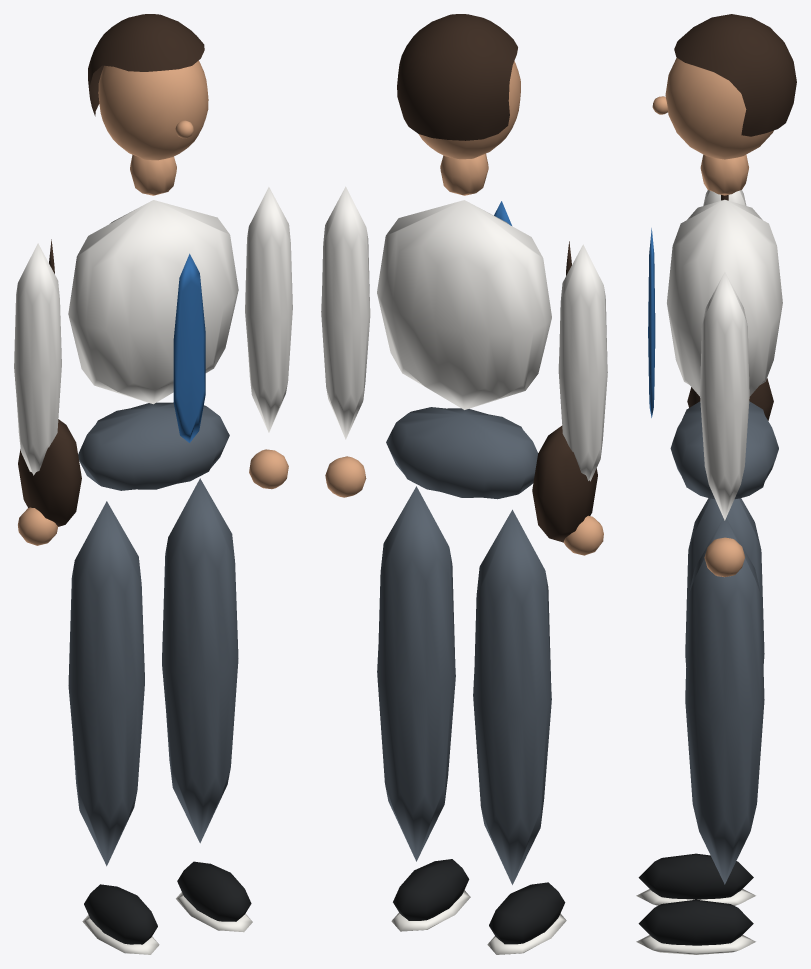
File: getkong-hhped10.glb
The picture shows the model from 3 angles, left to right: view 1: azimuth 30°, elevation 25°; view 2: azimuth 150°, elevation 25°; view 3: azimuth 270°, elevation 25°; orthographic projection. The views are drawn at different scales.
Visible parts, largest first — view 1: rumpf, beinR, beinL, kopf, armR, armL; view 2: rumpf, beinR, beinL, kopf, armR, armL; view 3: beinR, rumpf, kopf, armR, beinL, armL.
Part boxes in pixels (bbox=[...]): rumpf: bbox=[18, 154, 238, 526]; beinR: bbox=[162, 478, 252, 932]; beinL: bbox=[68, 501, 159, 954]; kopf: bbox=[88, 14, 208, 160]; armR: bbox=[245, 187, 292, 489]; armL: bbox=[14, 243, 61, 545]; rumpf: bbox=[377, 153, 597, 542]; beinR: bbox=[377, 486, 470, 931]; beinL: bbox=[473, 509, 566, 954]; kopf: bbox=[397, 14, 520, 159]; armR: bbox=[321, 186, 370, 497]; armL: bbox=[558, 244, 607, 555]; beinR: bbox=[636, 518, 764, 954]; rumpf: bbox=[648, 154, 782, 499]; kopf: bbox=[652, 14, 796, 159]; armR: bbox=[700, 272, 749, 577]; beinL: bbox=[636, 498, 764, 905]; armL: bbox=[703, 190, 746, 205].
Size of the model in its own units: 0.5566 by 1.74 by 0.2807.
